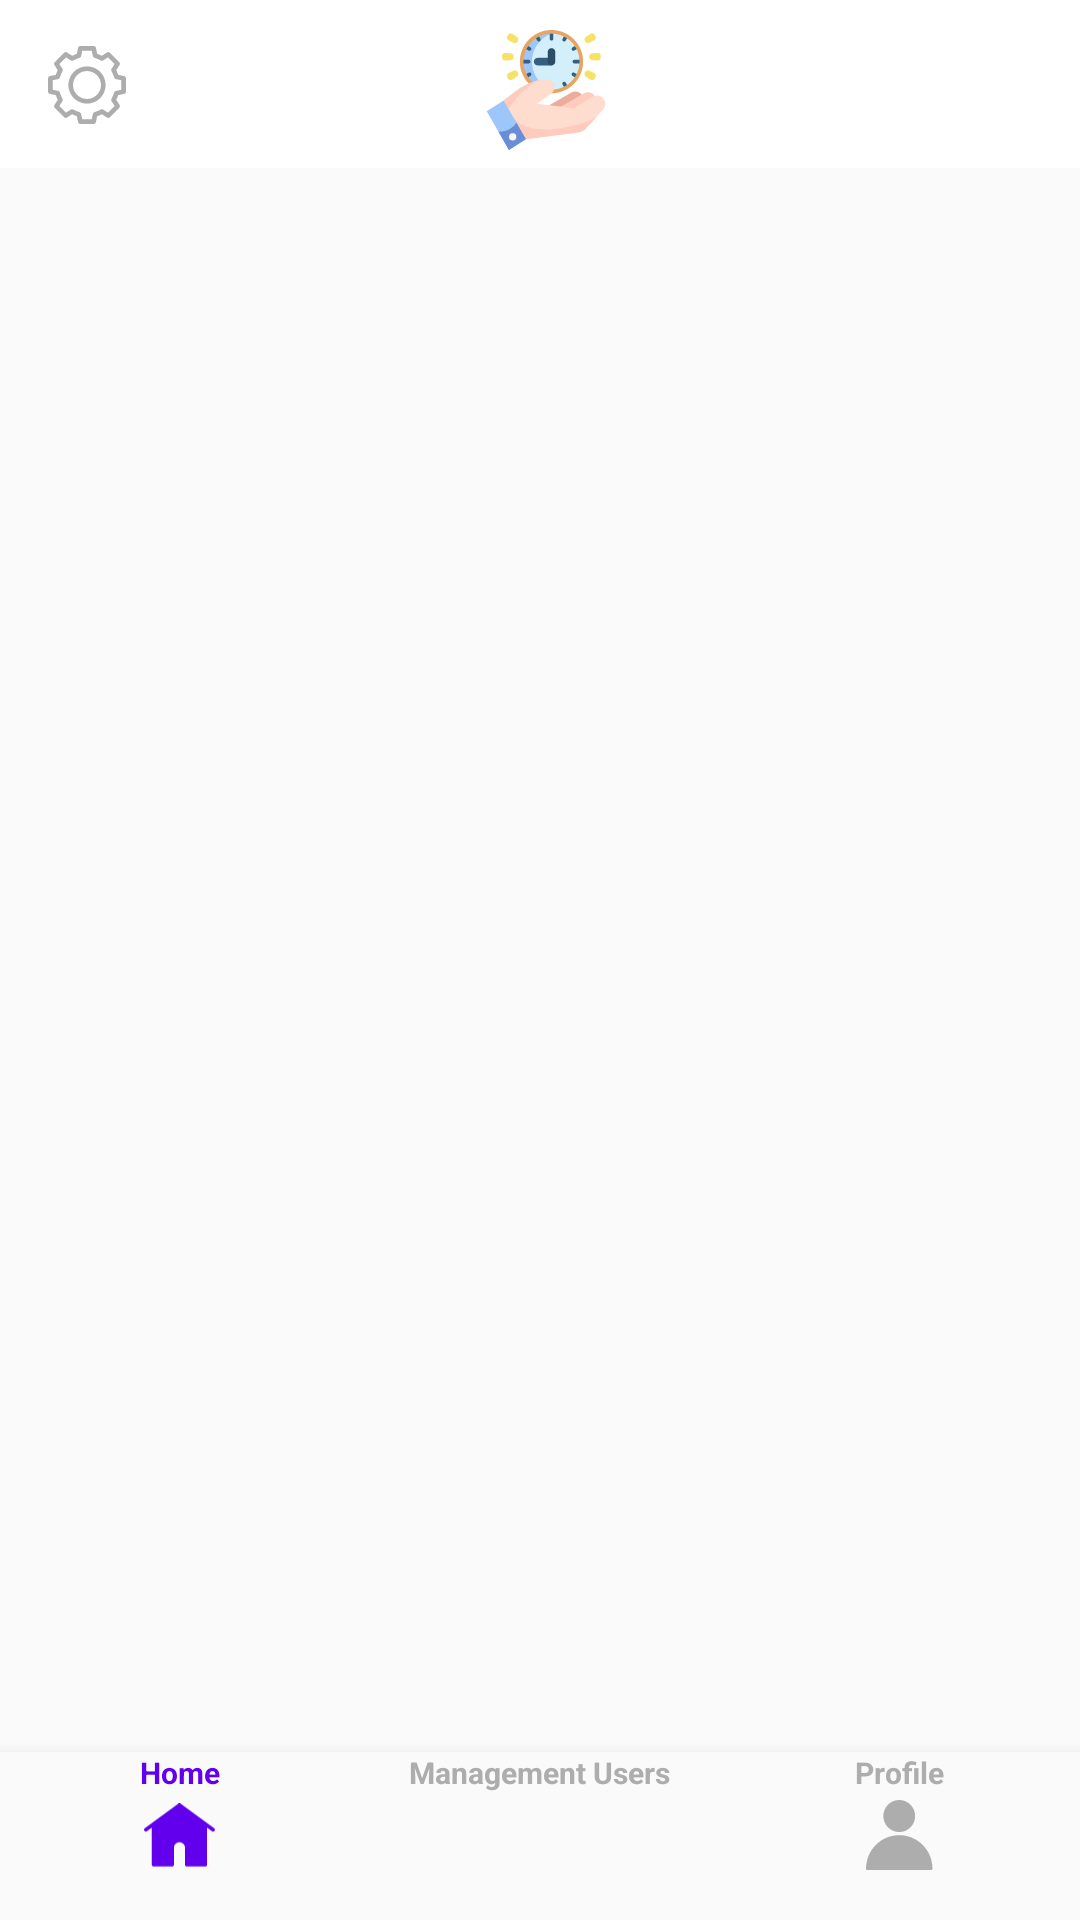

Icons on this 1080 x 1920 Android screen, each with the point to tap as (x=x, y=y):
time management: (x=546, y=90)
wheel: (x=87, y=85)
